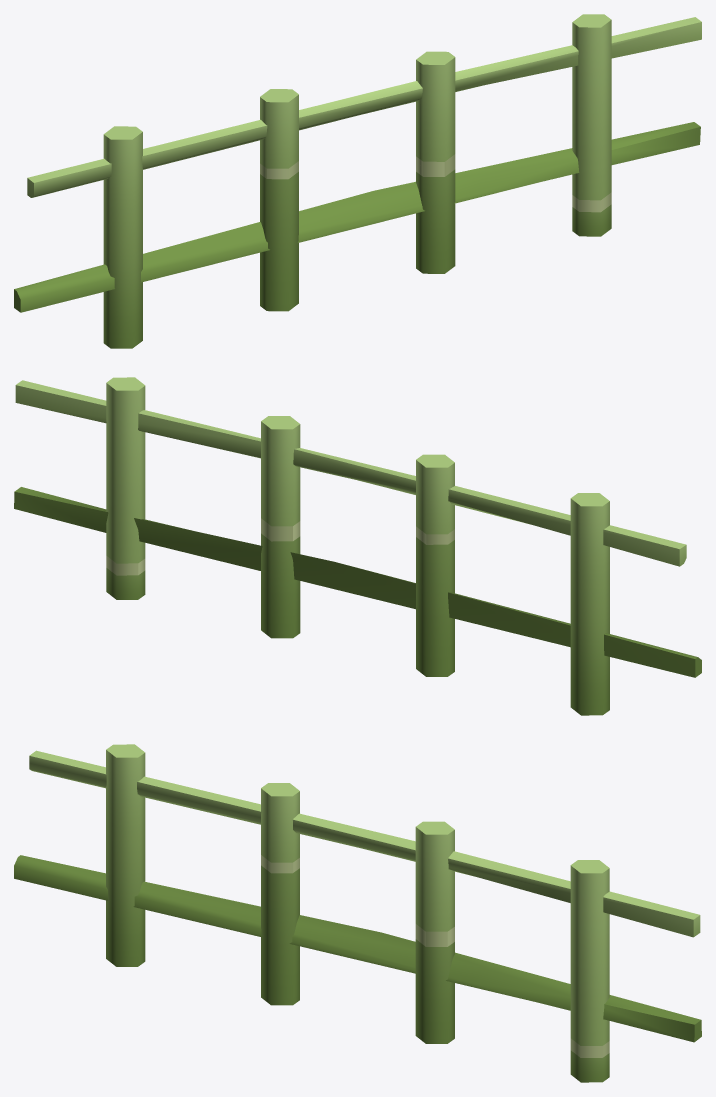
Rendered from Fence_Bamboo.gltf.
3 views of the same model, one above another, from view 1: azimuth 30°, elevation 25°; view 2: azimuth 150°, elevation 25°; view 3: azimuth 330°, elevation 25° (orthographic).
Parts seen in each view (by area): view 1: Fence_Bamboo; view 2: Fence_Bamboo; view 3: Fence_Bamboo.
Part boxes in pixels (box(x1,y1,x2,y2)): Fence_Bamboo: box(14, 14, 701, 348); Fence_Bamboo: box(14, 377, 701, 715); Fence_Bamboo: box(14, 744, 701, 1082).
Bounding box in the file's own units: 3 × 0.8812 × 0.1573.
Materials: 1 (1 with a texture image).
